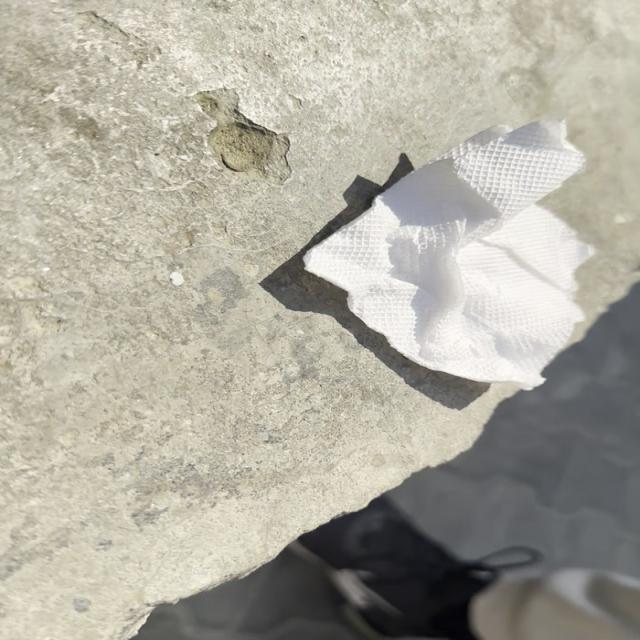tissue: (296, 112, 617, 398)
